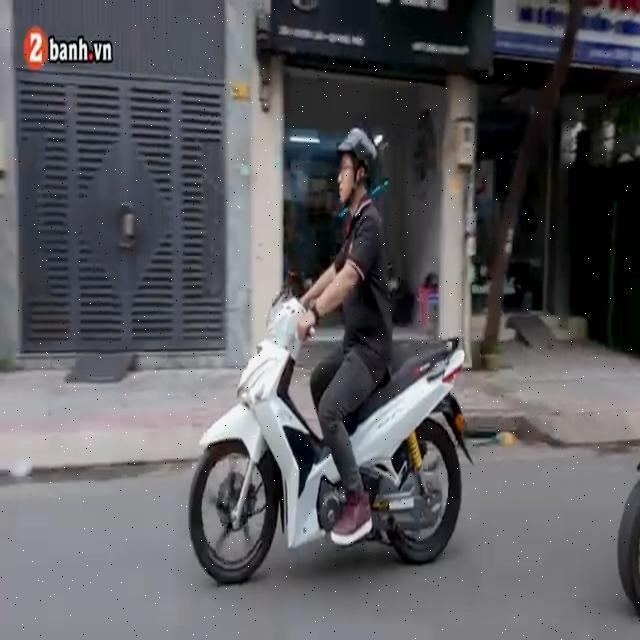motorcycle: (181, 260, 484, 590)
